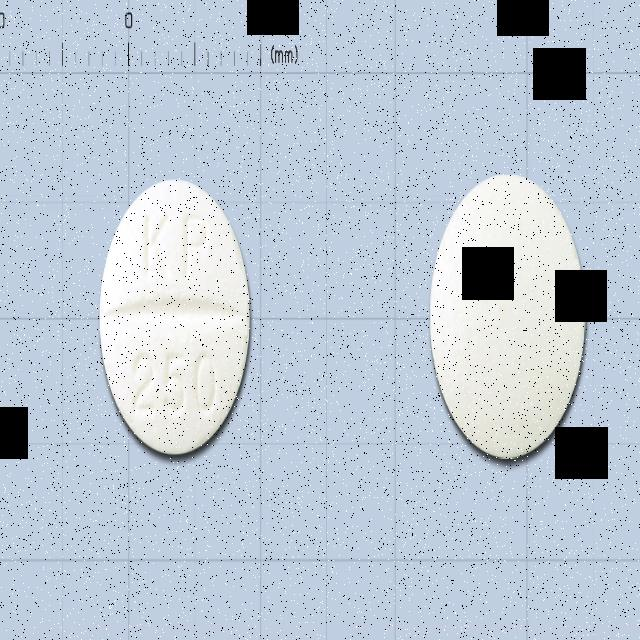Kipocin: (100, 177, 252, 456)
